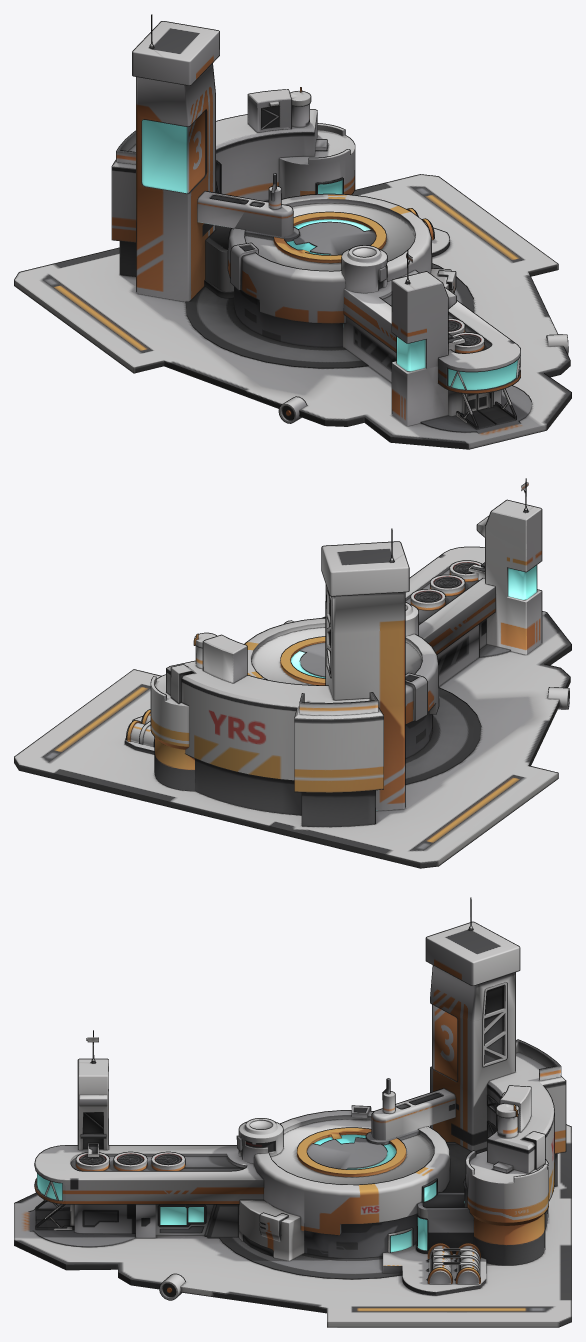
Rendered from moon_base.glb.
3 views of the same model, one above another, from view 1: azimuth 30°, elevation 25°; view 2: azimuth 150°, elevation 25°; view 3: azimuth 270°, elevation 25° (orthographic). The views are drawn at different scales.
Visible parts, largest first — view 1: Gandr_floor.002, Building_5.002, Building_1.002, Building_4.002, Building_2.002, Building_6.002, Floor.002, Building_3.002; view 2: Gandr_floor.002, Building_4.002, Building_5.002, Building_1.002, Building_6.002, Building_2.002, Floor.002, Building_3.002, barrels.002; view 3: Gandr_floor.002, Building_1.002, Building_5.002, Building_2.002, Building_3.002, Building_4.002, Floor.002, Building_6.002, barrels.002.
Part boxes in pixels (x1,y1,x2,y2): Gandr_floor.002: (14, 174, 571, 449); Building_5.002: (132, 14, 299, 301); Building_1.002: (227, 193, 456, 347); Building_4.002: (111, 87, 327, 276); Building_2.002: (343, 270, 520, 429); Building_6.002: (391, 250, 465, 426); Floor.002: (185, 227, 532, 433); Building_3.002: (204, 123, 355, 298); Gandr_floor.002: (14, 611, 571, 868); Building_4.002: (166, 632, 383, 827); Building_5.002: (321, 528, 409, 810); Building_1.002: (244, 602, 439, 758); Building_6.002: (468, 478, 542, 654); Building_2.002: (405, 546, 495, 686); Floor.002: (124, 644, 510, 784); Building_3.002: (150, 674, 194, 791); barrels.002: (126, 709, 154, 746); Gandr_floor.002: (14, 1124, 571, 1327); Building_1.002: (236, 1105, 450, 1261); Building_5.002: (365, 897, 520, 1151); Building_2.002: (34, 1145, 264, 1238); Building_3.002: (416, 1142, 548, 1265); Building_4.002: (487, 1039, 566, 1229); Floor.002: (28, 1201, 486, 1295); Building_6.002: (77, 1030, 108, 1156); barrels.002: (426, 1243, 480, 1284).
Bounding box in the file's own units: 21 × 13.69 × 24.69.
Materials: 2 (1 with a texture image).
